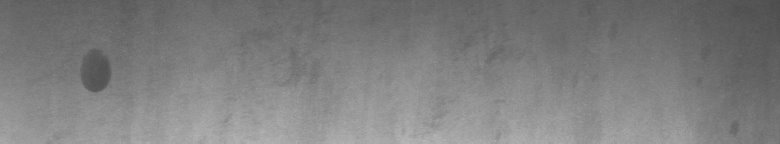fi: (77, 45, 116, 98)
